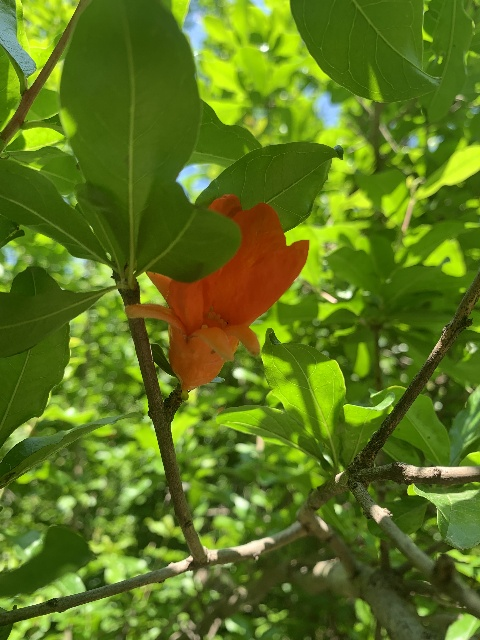flower: (127, 193, 310, 390)
